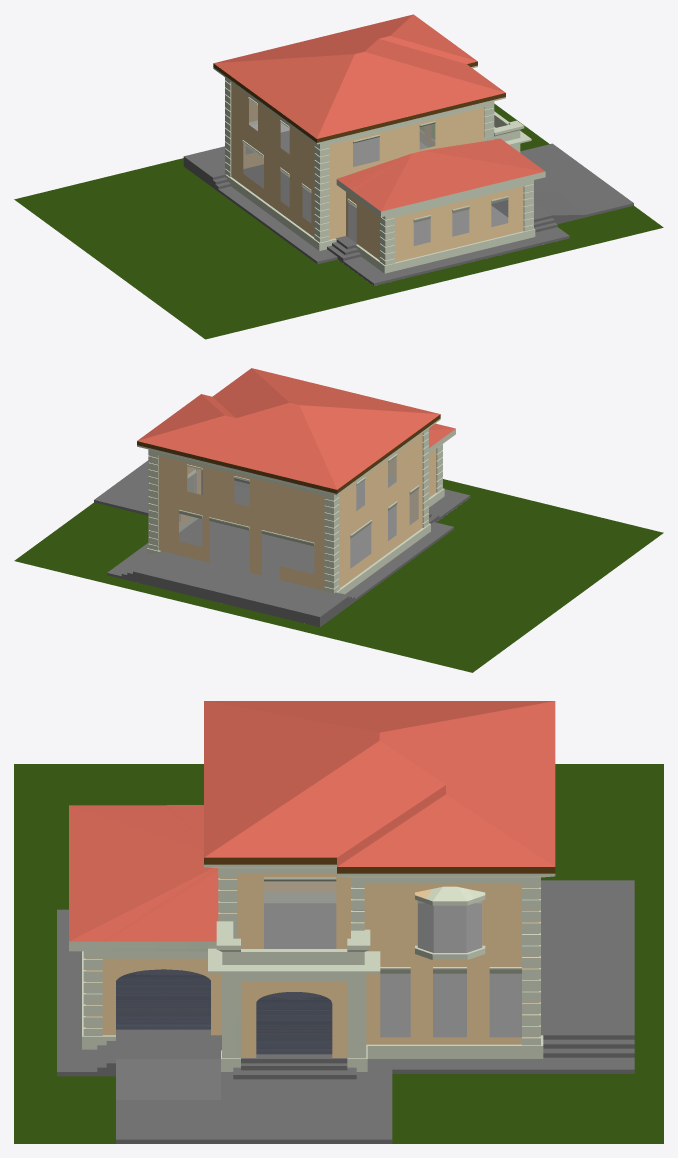
The model's file is casaStolnicu_OUTTER-SHELL.glb.
The picture shows the model from 3 angles, top to bottom: view 1: azimuth 30°, elevation 25°; view 2: azimuth 150°, elevation 25°; view 3: azimuth 270°, elevation 25°; orthographic projection. The views are drawn at different scales.
Visible parts, largest first — view 1: Plane; view 2: Plane; view 3: Plane.
Boxes of the visible parts, <box> form: Plane: <box>14,14,663,339</box>; Plane: <box>14,368,663,672</box>; Plane: <box>14,701,663,1143</box>.
Bounding box in the file's own units: 28.4 × 8.51 × 20.53.
8 materials, 1 textured.
